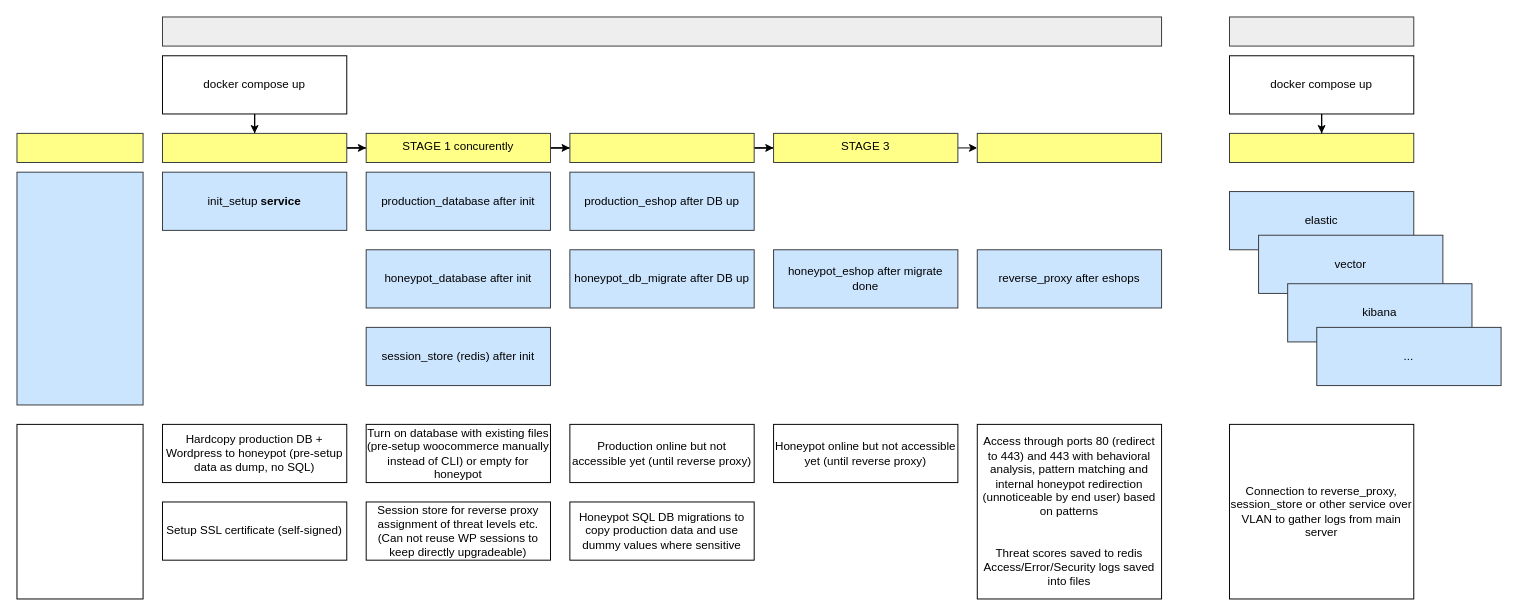
Some shapes in this 1518 by 616 pixel diagram are drawn without their labels. Each missing label, with the centre of its shape:
Docker Compose services: the point at 79,288
Healthchecks: the point at 79,147
Service actions: the point at 79,511
STAGE 1: the point at 254,147
STAGE 1 (anytime): the point at 1321,147
STAGE 2 concurently: the point at 661,147
STAGE 4: the point at 1069,147
Virtual Machine A: the point at 662,31
Virtual Machine B: the point at 1321,31
